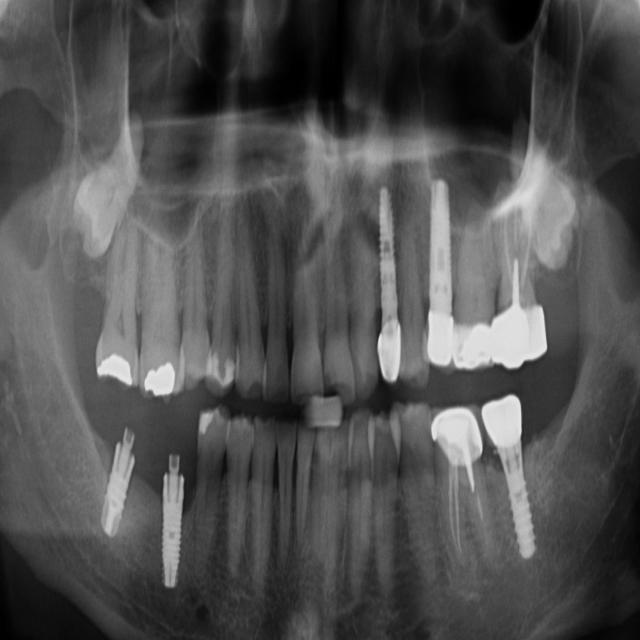dolgu: (133, 345, 185, 404), (89, 342, 143, 398), (195, 404, 235, 456), (204, 358, 240, 390)
implant: (483, 381, 542, 558), (423, 169, 458, 393), (370, 186, 409, 378), (95, 399, 140, 548), (154, 439, 192, 589)
kanal-tedavisi: (502, 202, 542, 318), (443, 459, 487, 557)
kaplama: (429, 400, 484, 470), (499, 302, 550, 368)
kopru: (438, 321, 526, 374)
